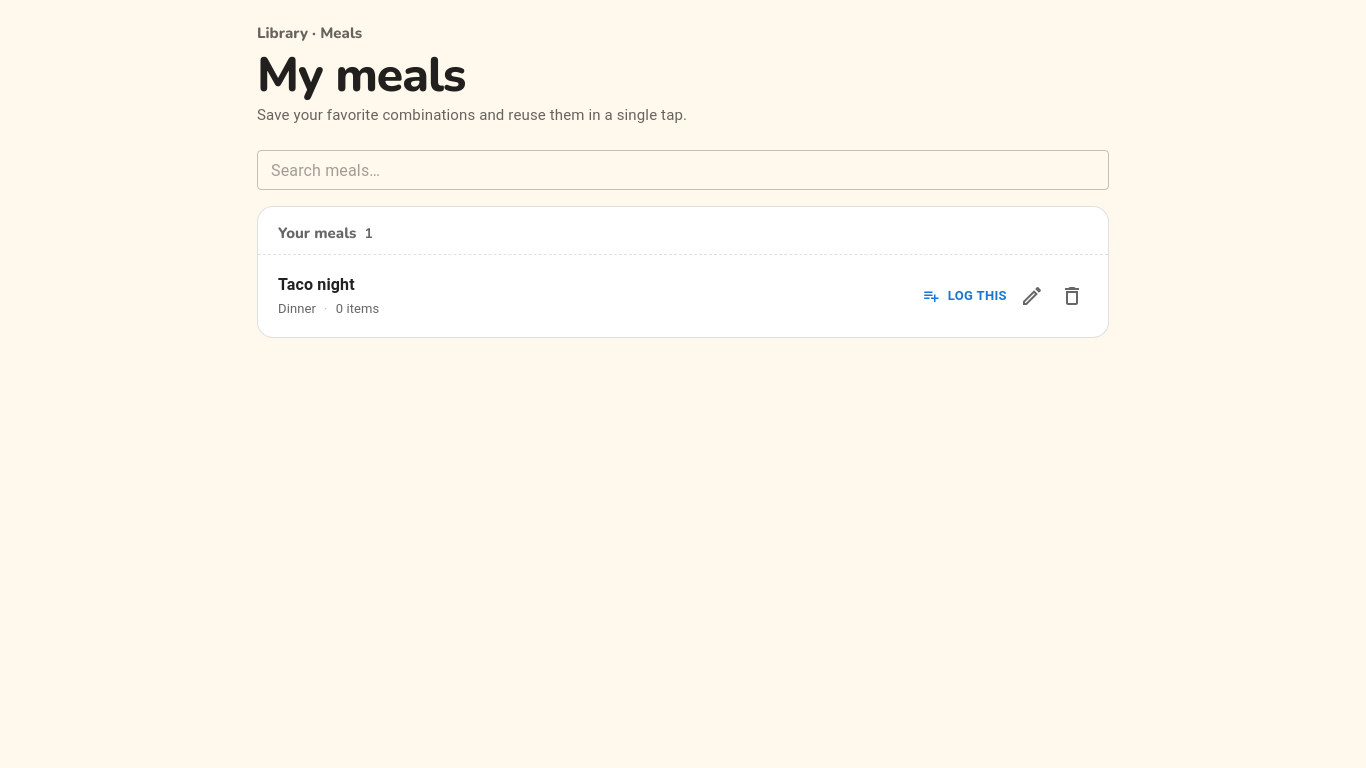
Test: My Meals: Log this › logs the saved meal to today, in the meal picked, with an undo
Click the button with aria-label "Log Taco night" at (965, 296), box [919, 274, 1012, 318]
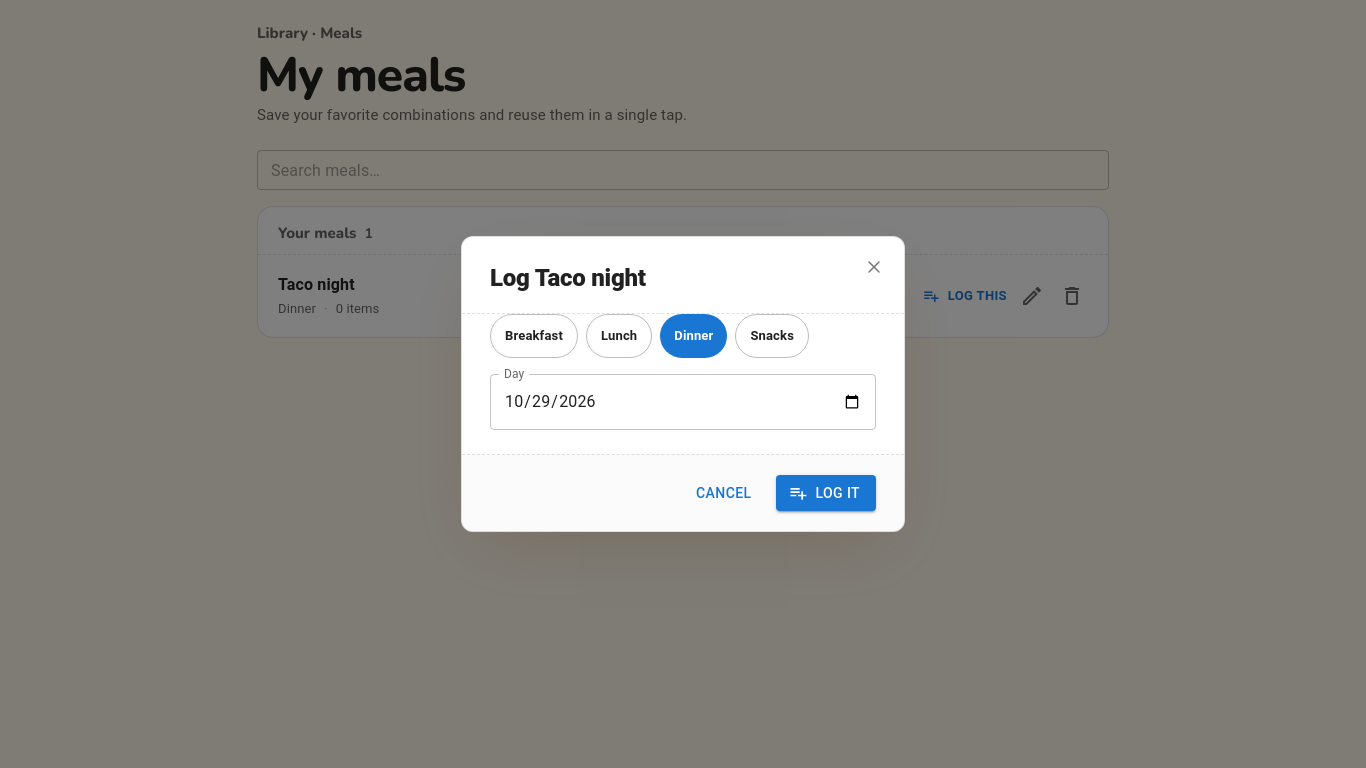
Expected: the button "Dinner" is shown, [660, 314, 727, 358]
Click the button "Lunch" at (619, 336), box [586, 314, 652, 358]
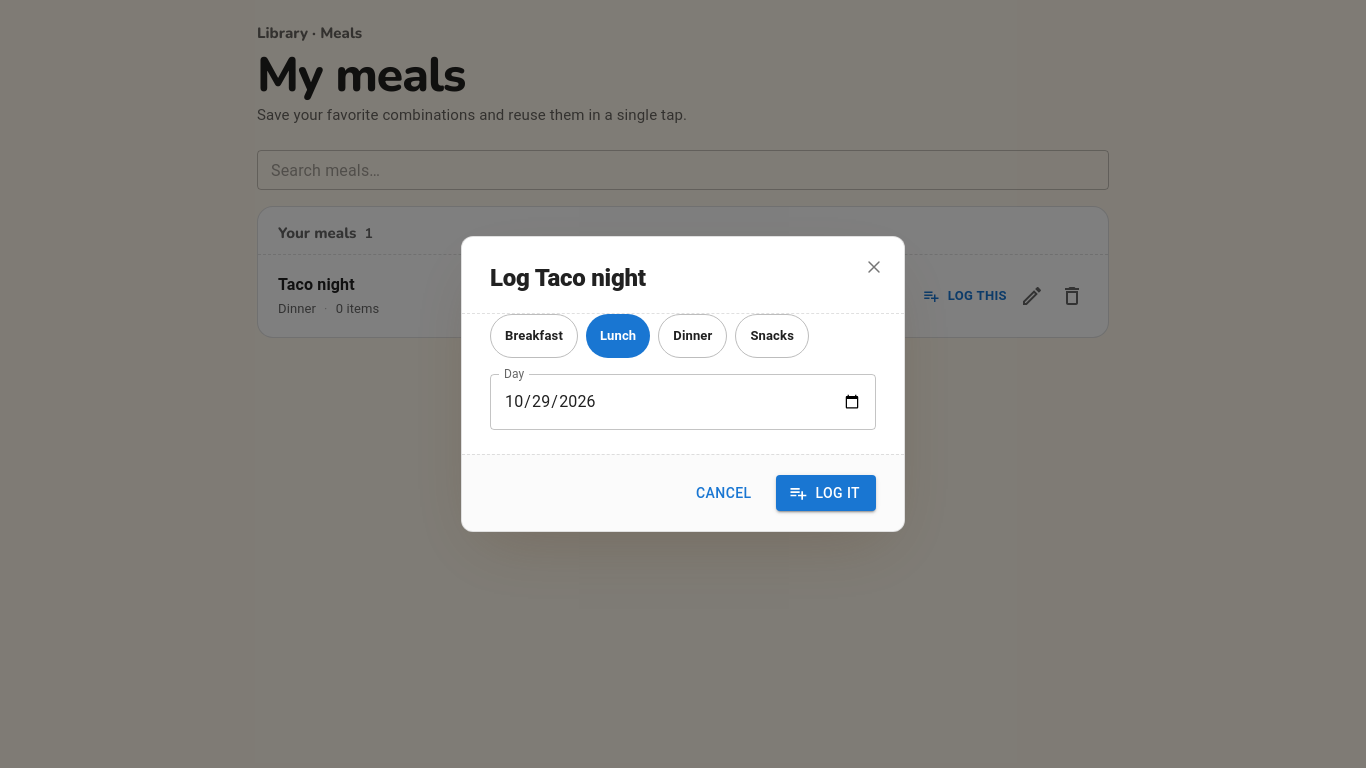
Click the button "Log it" at (826, 493), box [776, 474, 876, 511]
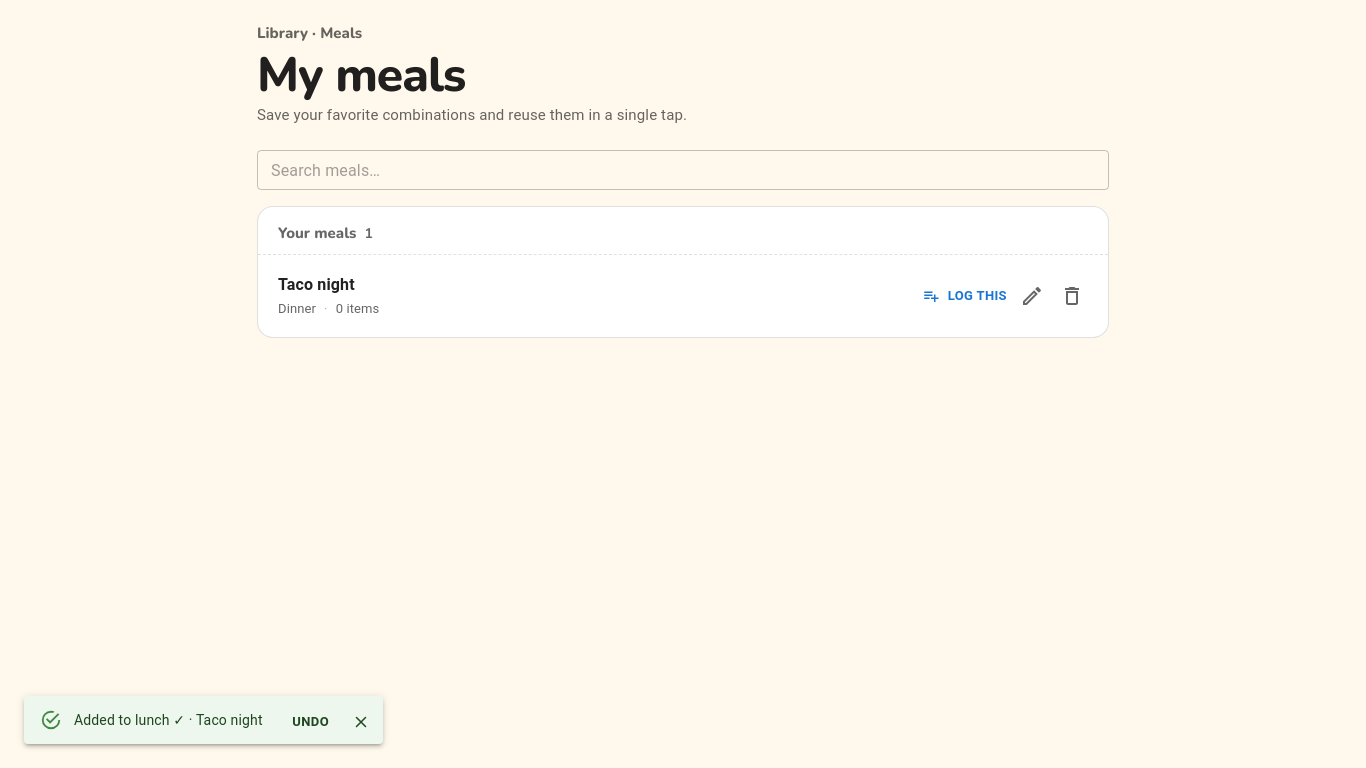
Expected: the text "Added to lunch ✓ · Taco night" is shown, [74, 712, 263, 728]
// The sheet is still closing, so the page under it is aria-hidden a moment.
Click the button "Undo" at (311, 722), box [279, 707, 343, 737]
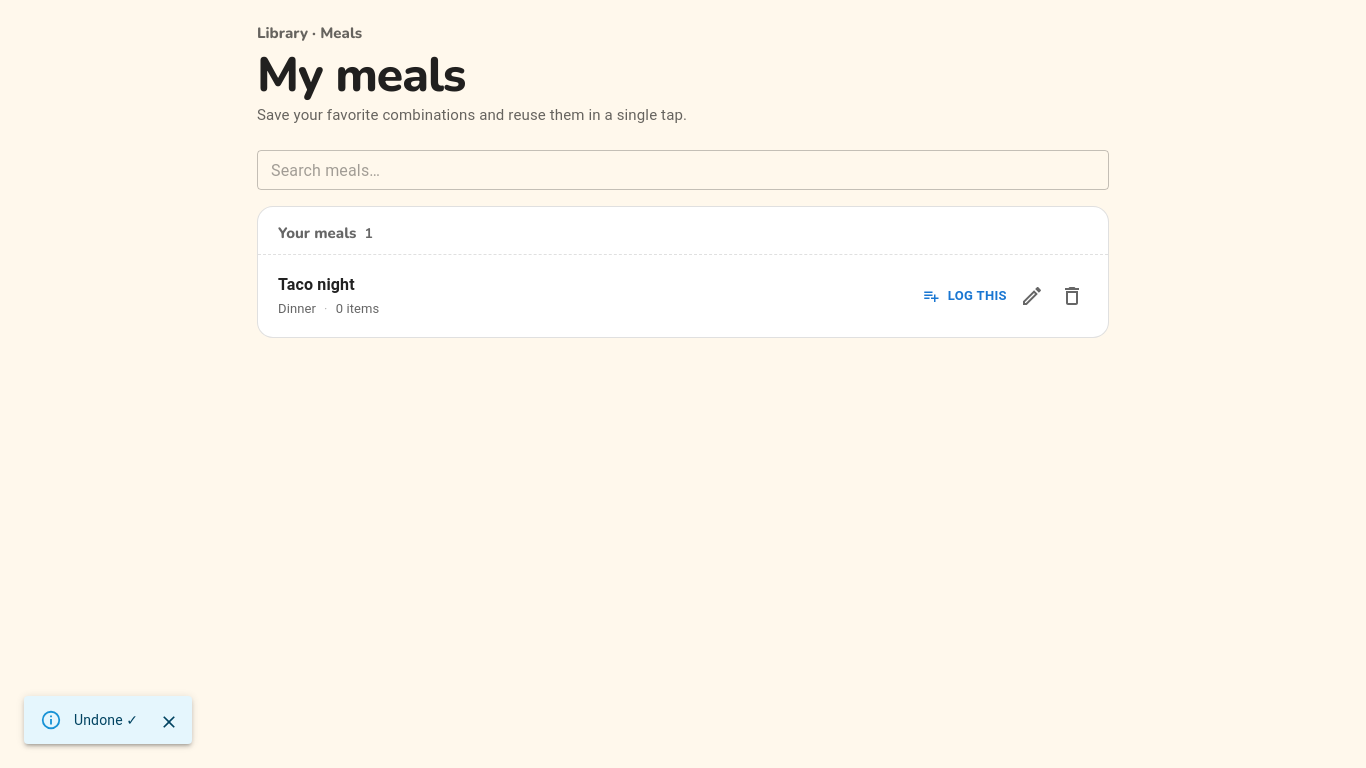
Expected: the text "Undone ✓" is shown, [74, 712, 138, 728]
